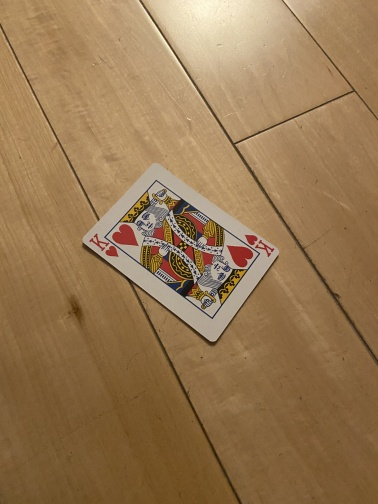king: (80, 161, 281, 347)
